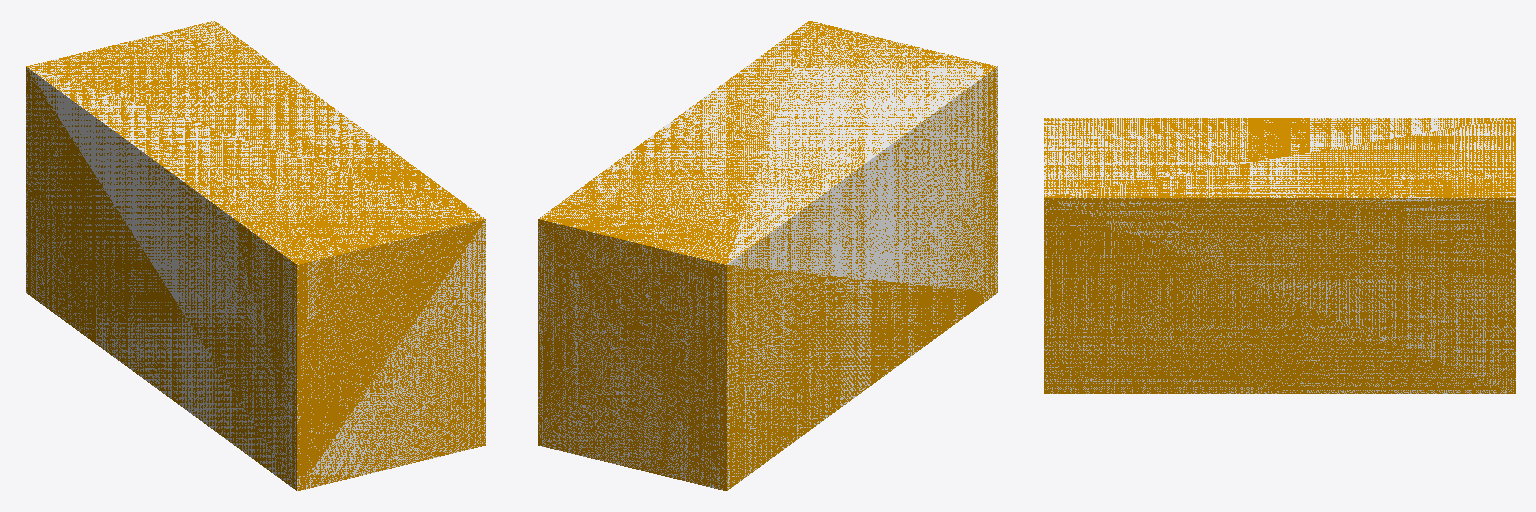
URDF robot description (my_object):
<?xml version="1.0" ?>
<robot name="my_object" static="true">
  <link name="base_link">
  <inertial>
    <mass value="0.081" />
    <origin xyz="0 0 0.0" />
    <inertia ixx="1.0" ixy="0.0" ixz="0.0" iyy="1.0" iyz="0.0" izz="1.0"/>
  </inertial>
  <visual>
   <origin xyz="0 0 0.0" rpy="0 0 0" />
   <geometry>
     <mesh filename="package://cob_gazebo_objects/Media/models/tea_box.dae"/>
   </geometry>
  </visual>
  <collision>
   <origin xyz="0 0.00 0" rpy="0 0 0" />
   <geometry>
     <box size="0.063 0.158 0.073" />
   </geometry>
  </collision>
  </link>


<gazebo>
	<static>true</static>
</gazebo>
</robot>

--- Render facts (derived) ---
The picture shows the robot from 3 angles, left to right: view 1: azimuth 30°, elevation 25°; view 2: azimuth 150°, elevation 25°; view 3: azimuth 270°, elevation 25°; orthographic projection.
Robot: my_object — 1 links, 0 joints (none); root link base_link; default pose: all joints at 0.
Visible links, largest first — view 1: base_link; view 2: base_link; view 3: base_link.
Link boxes in pixels (left/top/right/bottom): base_link: left=26, top=21, right=485, bottom=490; base_link: left=538, top=21, right=997, bottom=490; base_link: left=1044, top=118, right=1515, bottom=393.
Size in the robot's own frame: 0.0633 by 0.1575 by 0.0726 metres.
Meshes: 1 distinct files referenced, 1 mesh visuals loaded (1 Collada DAE).